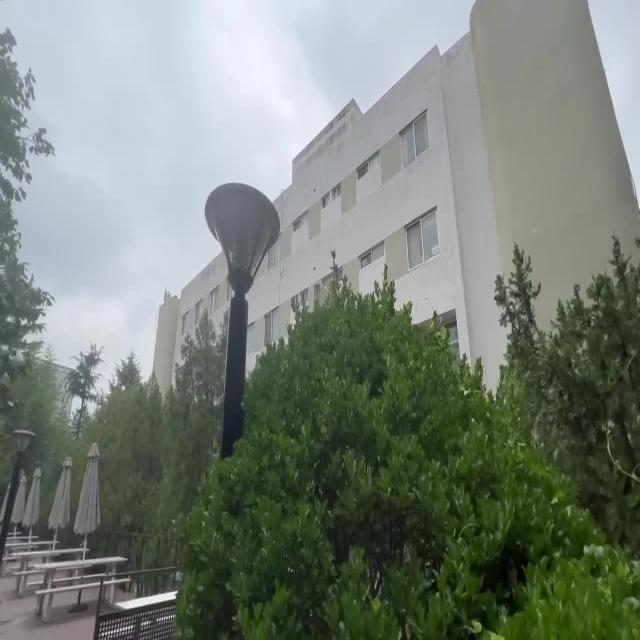building: (288, 13, 618, 289)
